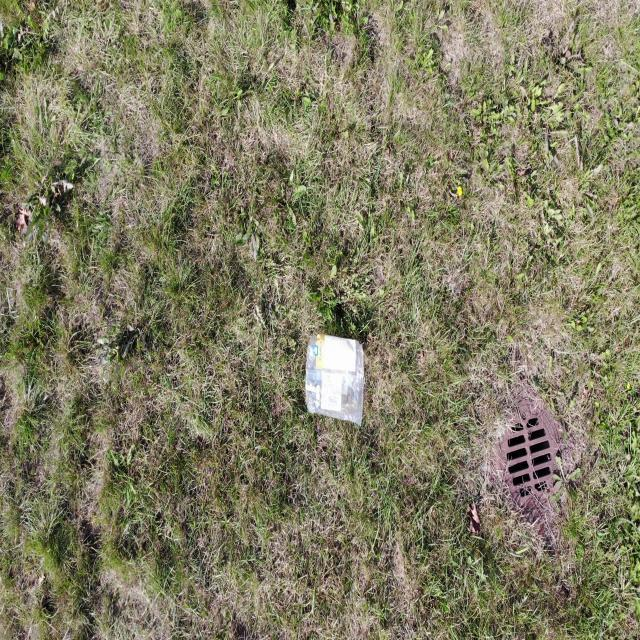rubbish: (305, 335, 365, 425)
